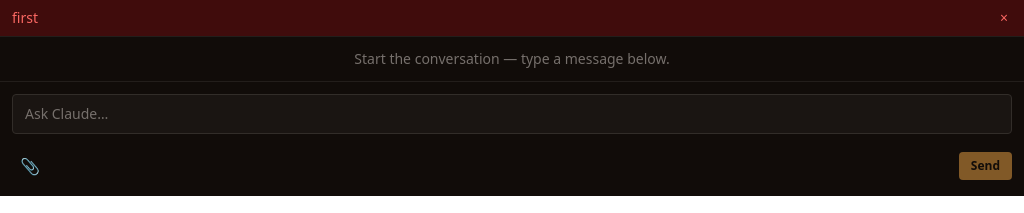
ChatPanel › error banner › resurfaces a fresh error after a previous one was dismissed
This screenshot has width=1024, height=213.
Click the button named "dismiss error".
click(1004, 18)  # box [996,8,1012,28]
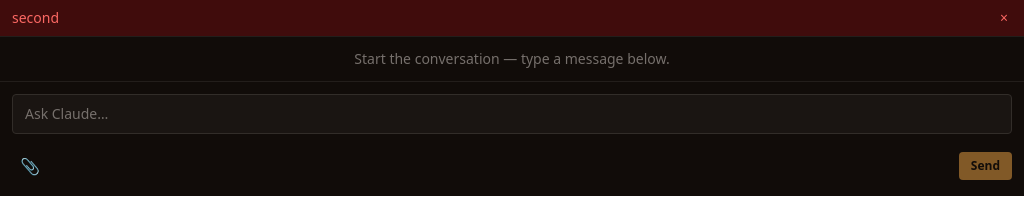
Expected: the text "second" is shown, [12,8,59,27]
